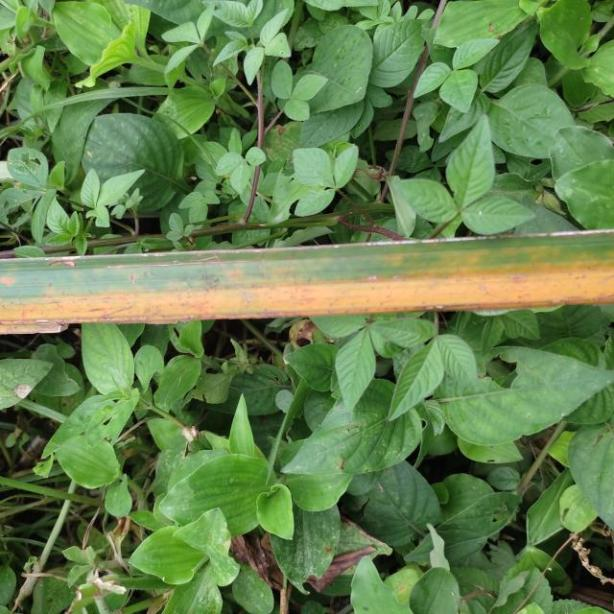Megnesium: (0, 214, 614, 342)
